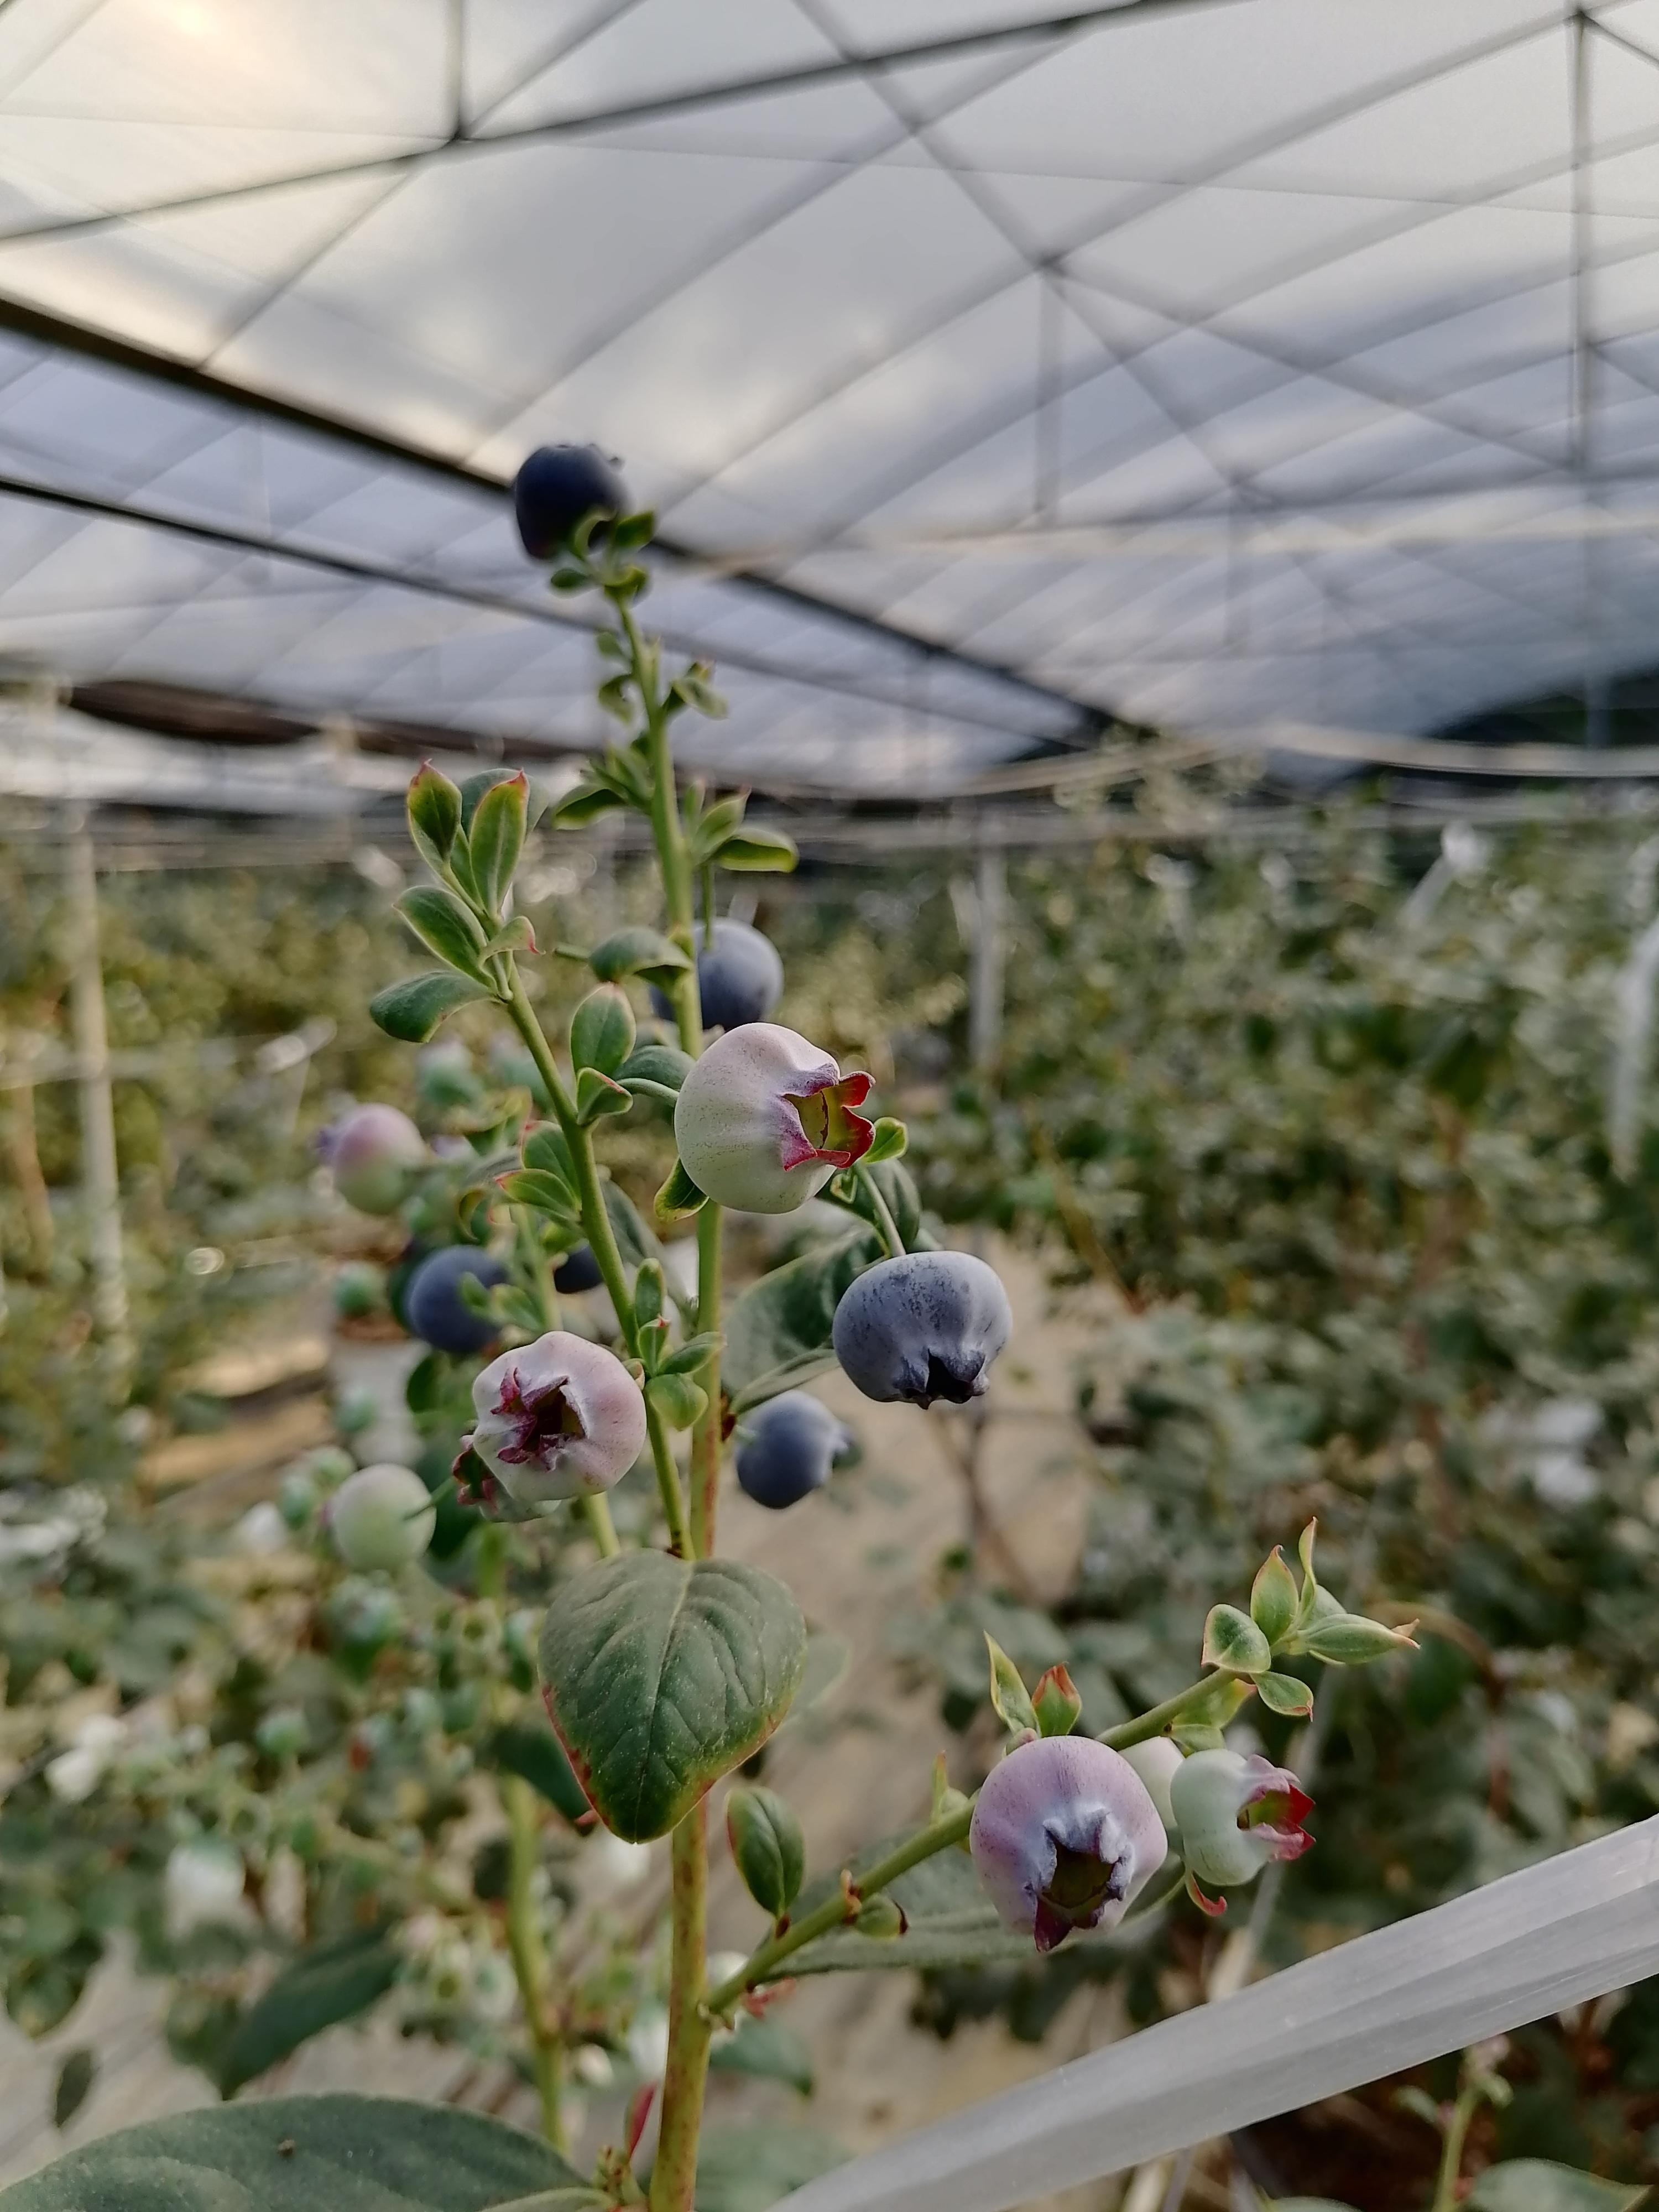ripe-blueberries: (828, 1247, 1016, 1411), (652, 918, 784, 1042), (512, 437, 640, 561), (732, 1392, 845, 1512), (410, 1249, 518, 1357), (558, 1242, 605, 1292)
